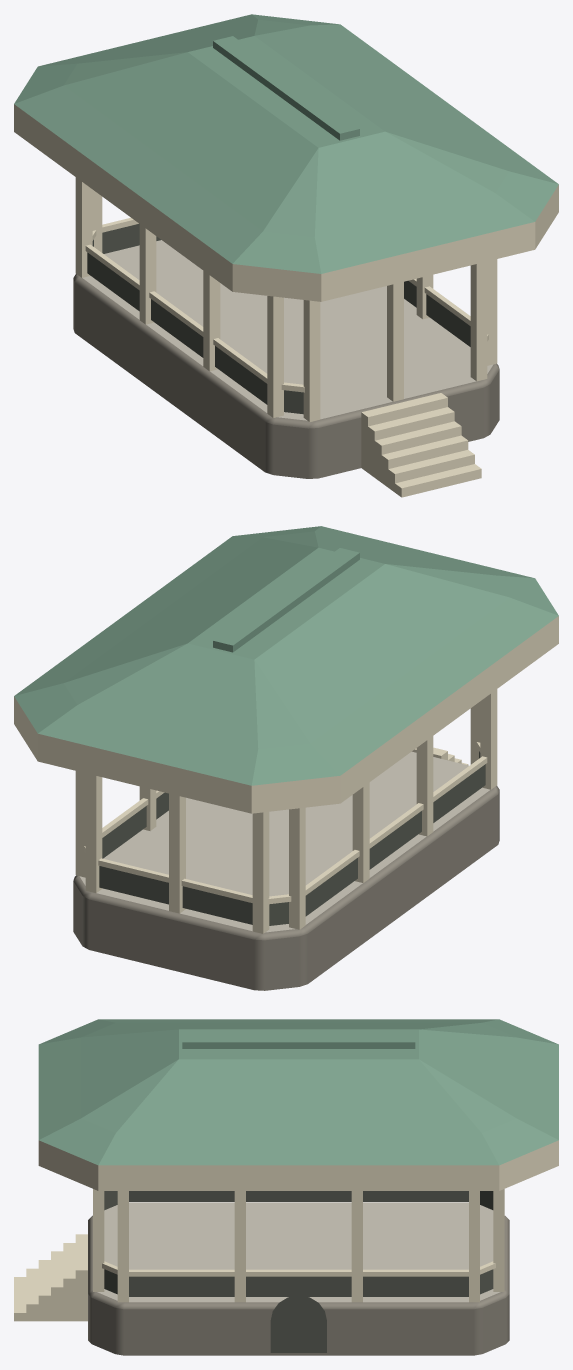
Rendered from nyc-music-pagoda.glb.
3 renders of one model, top to bottom at view 1: azimuth 30°, elevation 25°; view 2: azimuth 150°, elevation 25°; view 3: azimuth 270°, elevation 25°, orthographic. The views are drawn at different scales.
Visible parts, largest first — view 1: Music Pagoda; view 2: Music Pagoda; view 3: Music Pagoda.
Boxes of the visible parts, x1,y1,x2,y2 form: Music Pagoda: (14,14,558,497); Music Pagoda: (14,526,558,990); Music Pagoda: (14,1019,558,1355).
Bounding box in the file's own units: 9.8 × 8.3 × 15.44.
